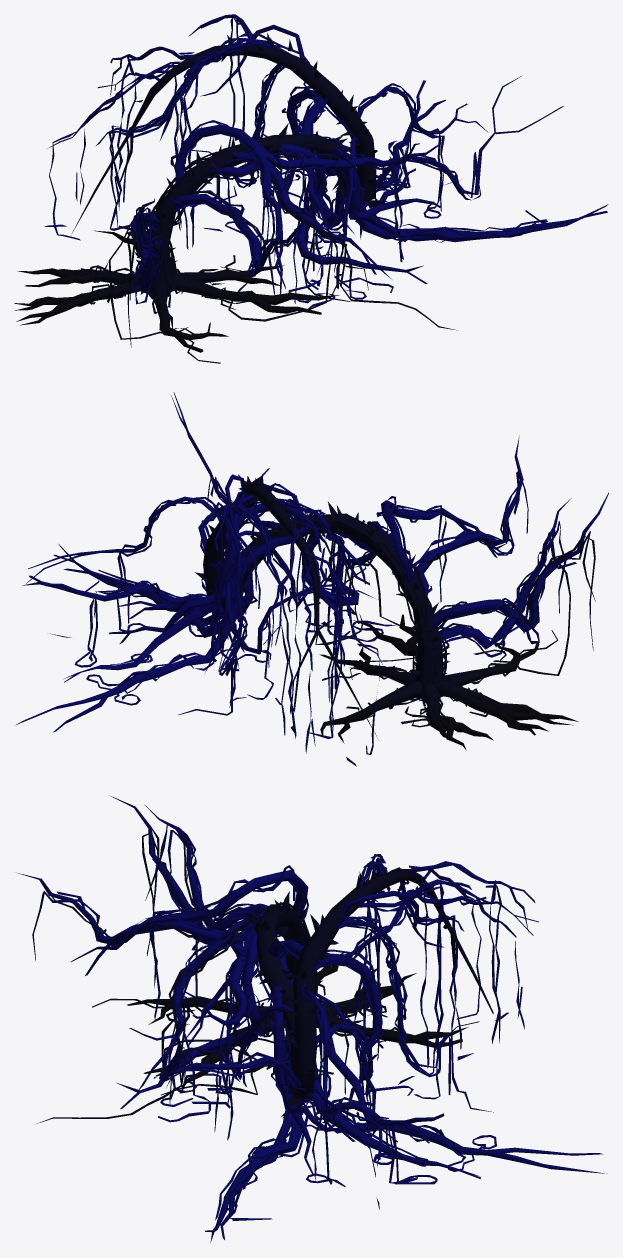
Rendered from Sm_SpikeTree_11.FBX.
The picture shows the model from 3 angles, top to bottom: view 1: azimuth 30°, elevation 25°; view 2: azimuth 150°, elevation 25°; view 3: azimuth 270°, elevation 25°; orthographic projection. The views are drawn at different scales.
Parts seen in each view (by area): view 1: Sm_SpikeTree_11; view 2: Sm_SpikeTree_11; view 3: Sm_SpikeTree_11.
Part boxes in pixels (left/top/right/bottom): Sm_SpikeTree_11: left=14, top=14, right=608, bottom=363; Sm_SpikeTree_11: left=16, top=392, right=608, bottom=766; Sm_SpikeTree_11: left=16, top=796, right=607, bottom=1243.
Size of what is drawn, in the model's own units: 1450 by 1193 by 523.
